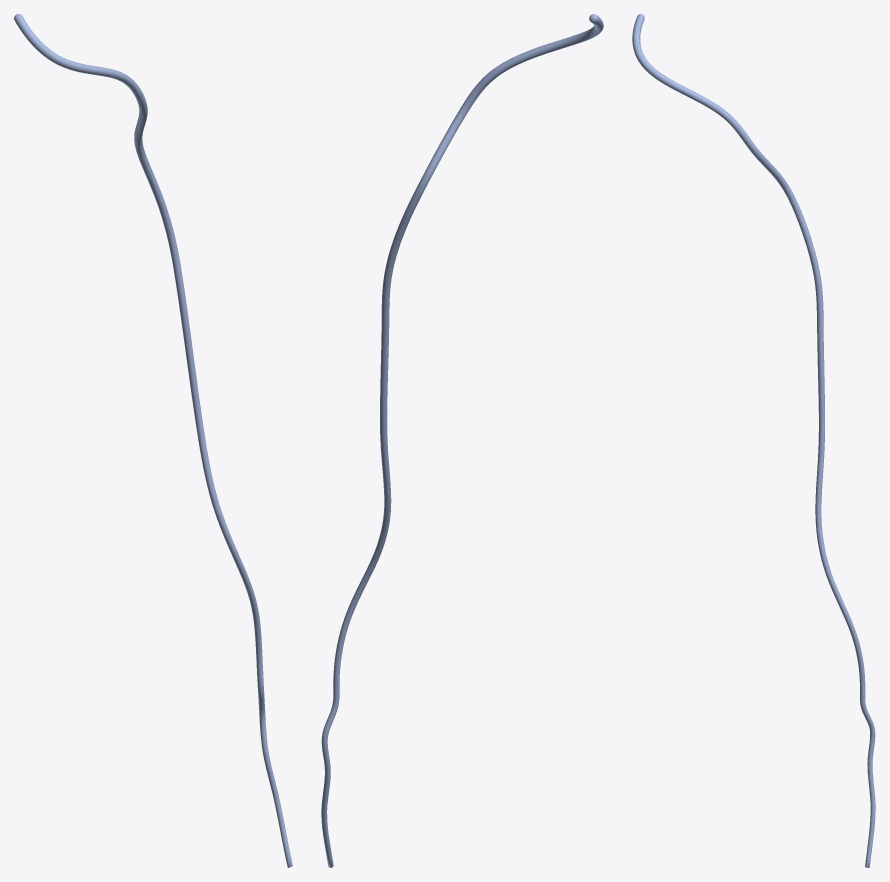
The model's file is vein.glb.
3 renders of one model, left to right at view 1: azimuth 30°, elevation 25°; view 2: azimuth 150°, elevation 25°; view 3: azimuth 330°, elevation 25°, orthographic. The views are drawn at different scales.
Visible parts, largest first — view 1: vein; view 2: vein; view 3: vein.
Part boxes in pixels (x1,y1,x2,y2): vein: (14,14,292,867); vein: (321,14,603,867); vein: (632,14,875,867).
Size of the model in its own units: 0.1002 by 0.3212 by 0.0314.
